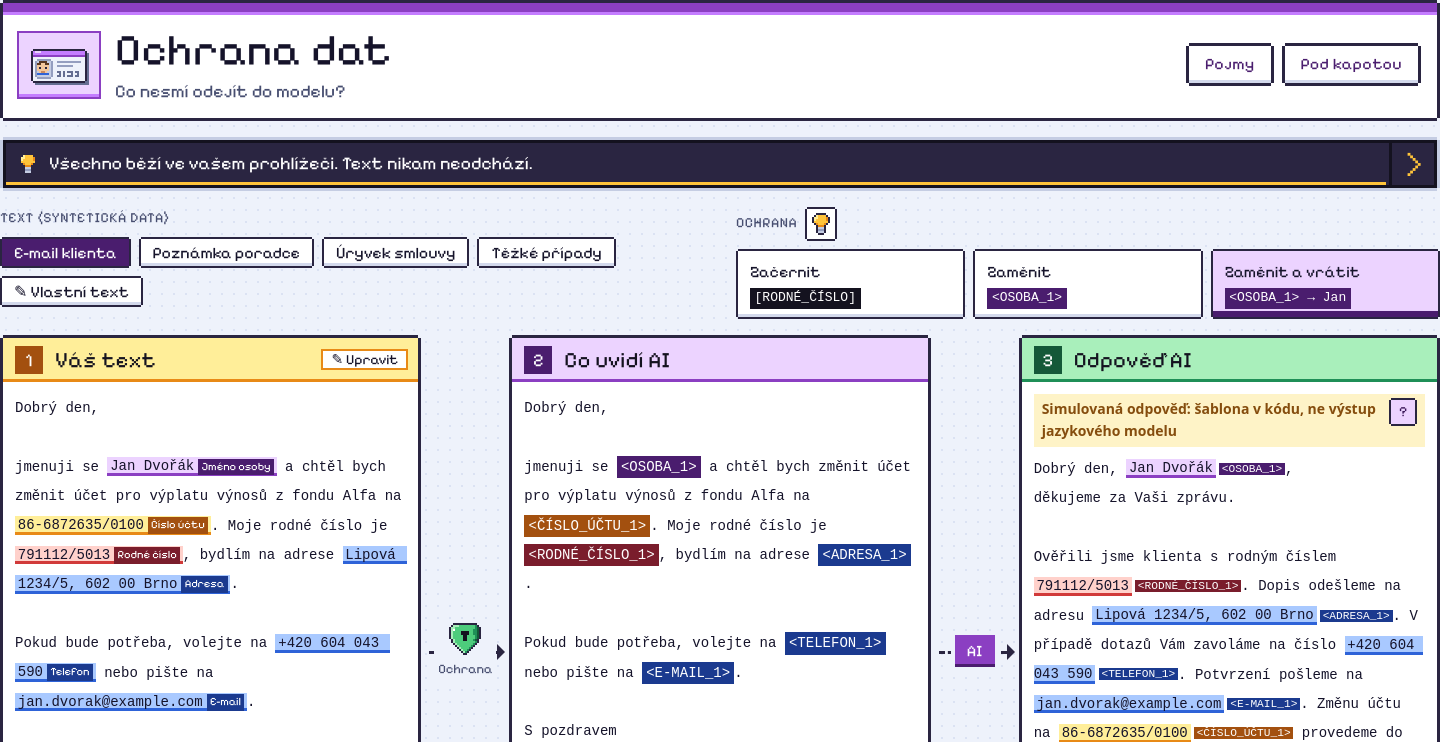
it: PiiPage › loads another sample and analyses an own text
Click the button "Těžké případy" at coordinates (547, 252), box [480,239,614,266]
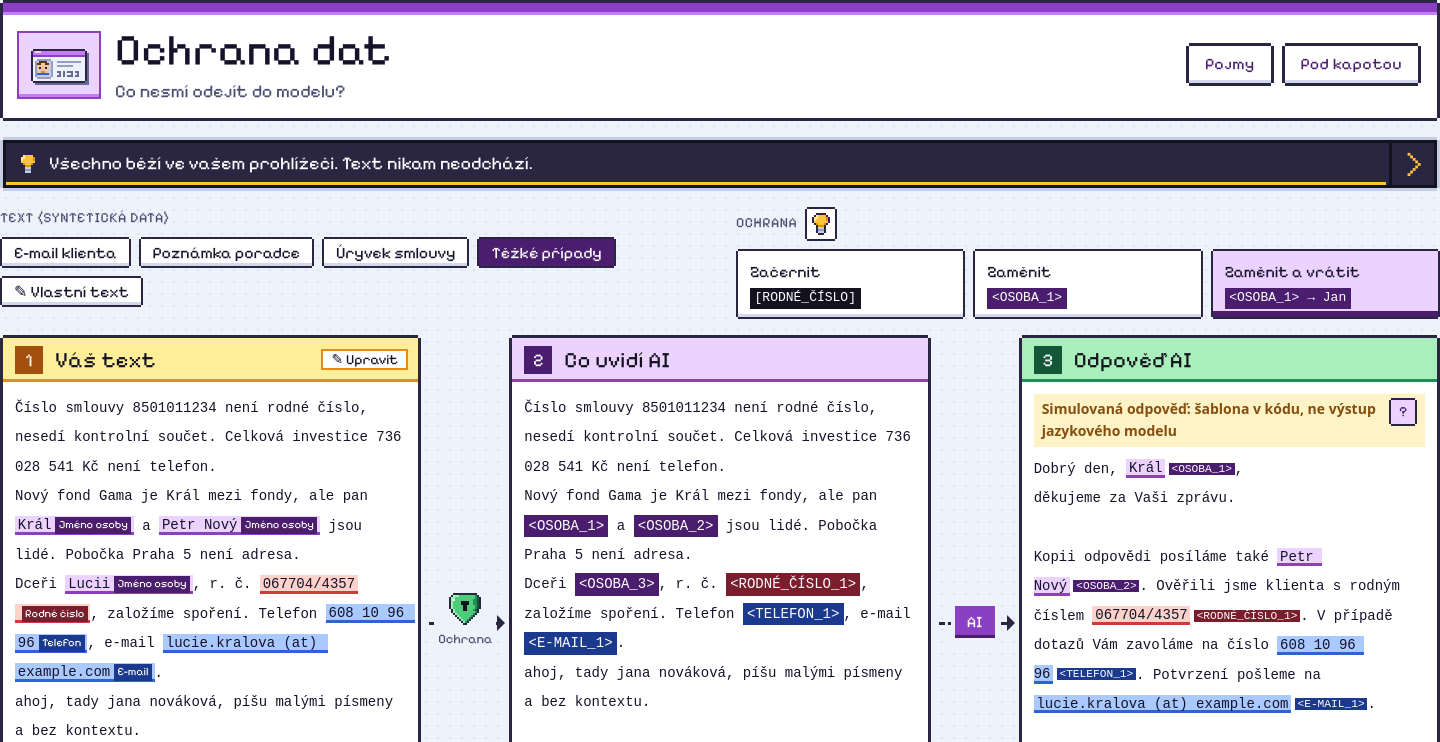
Result: the text "Petr Nový" is shown at [162,518,238,534]
Click the button "✎ Vlastní text" at coordinates (72, 292), box [2,278,141,305]
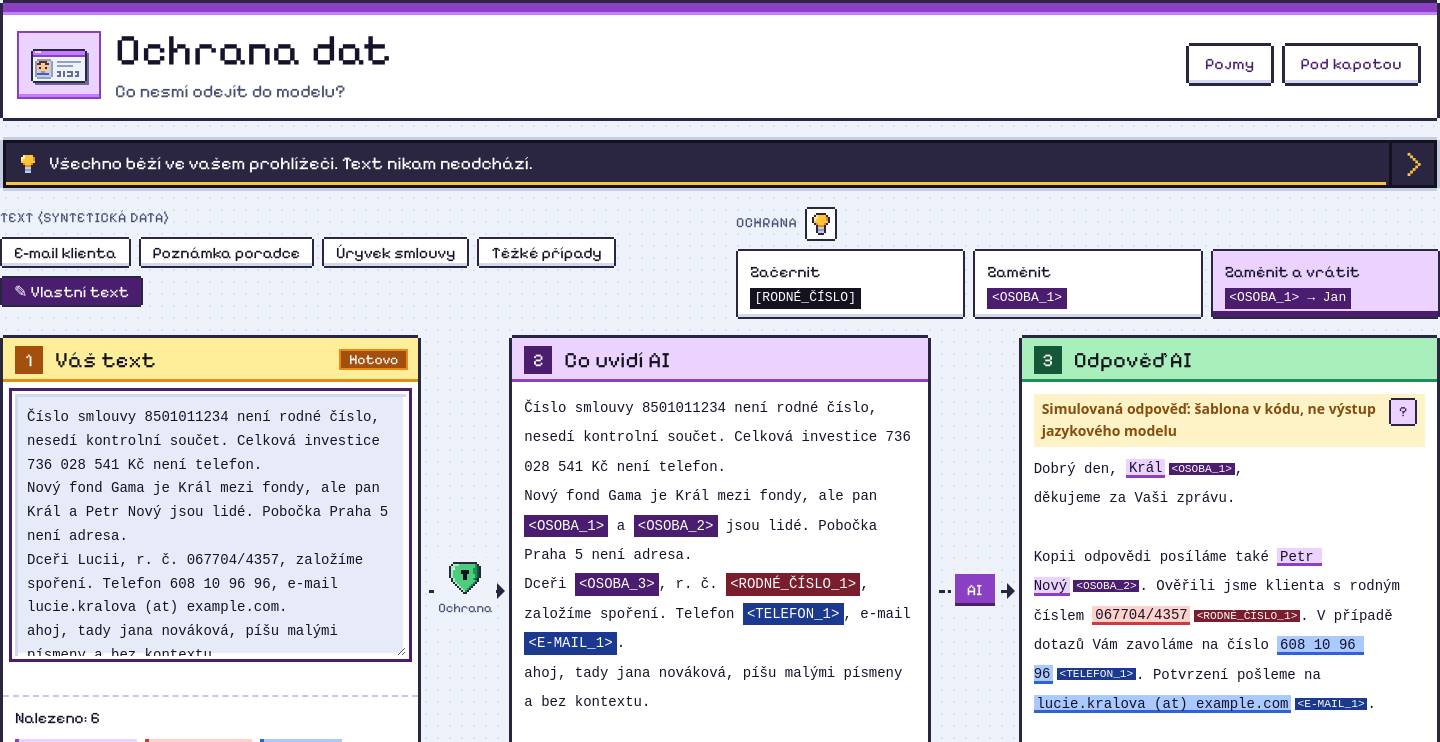
Result: the button "Těžké případy" is not pressed at [480,239,614,266]
Replace the text in the text box named "Text ke kontrole" with "Volejte +420 605 123 456." at coordinates (211, 525), box [15,394,406,656]
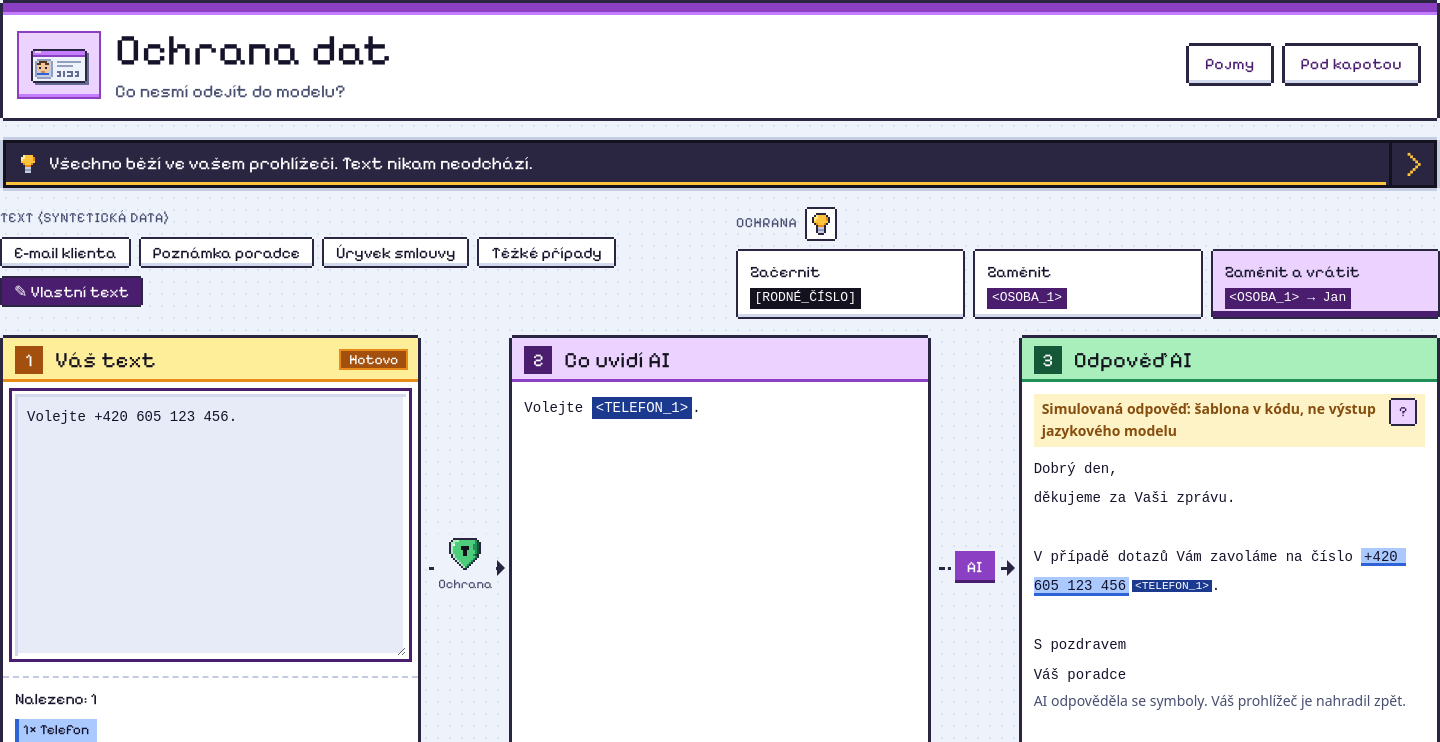
Click the button "Hotovo" at coordinates (374, 360), box [341,352,406,368]
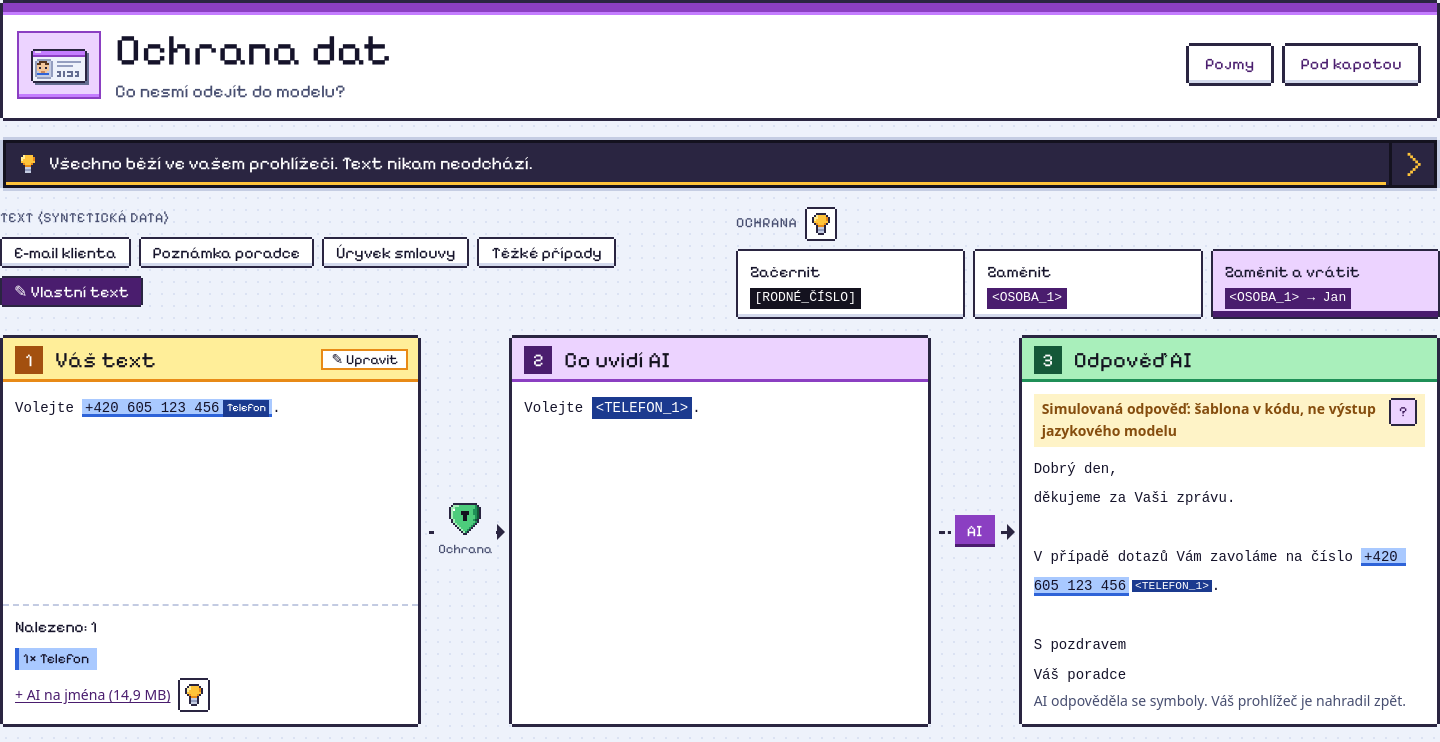
Result: the text "+420 605 123 456" is shown at [85,400,219,416]
